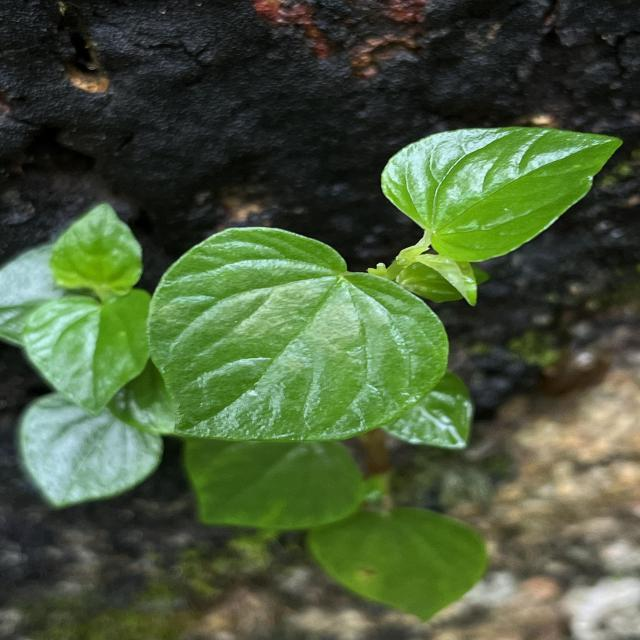Peperomia pellucida: (142, 225, 452, 448), (378, 123, 626, 264)
